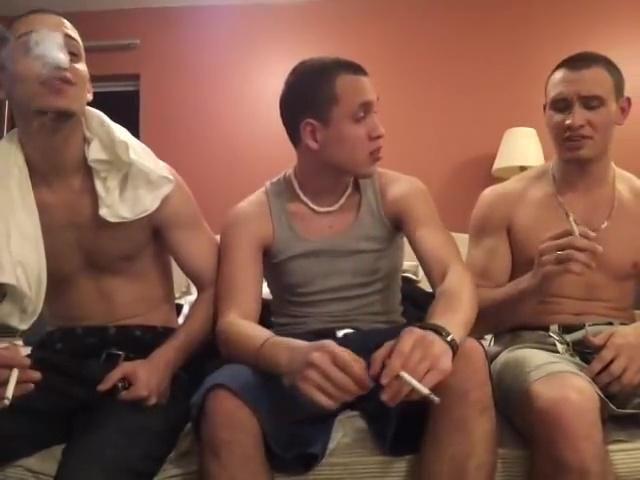cigarette: (397, 367, 442, 406), (0, 362, 22, 408), (562, 207, 583, 236)
